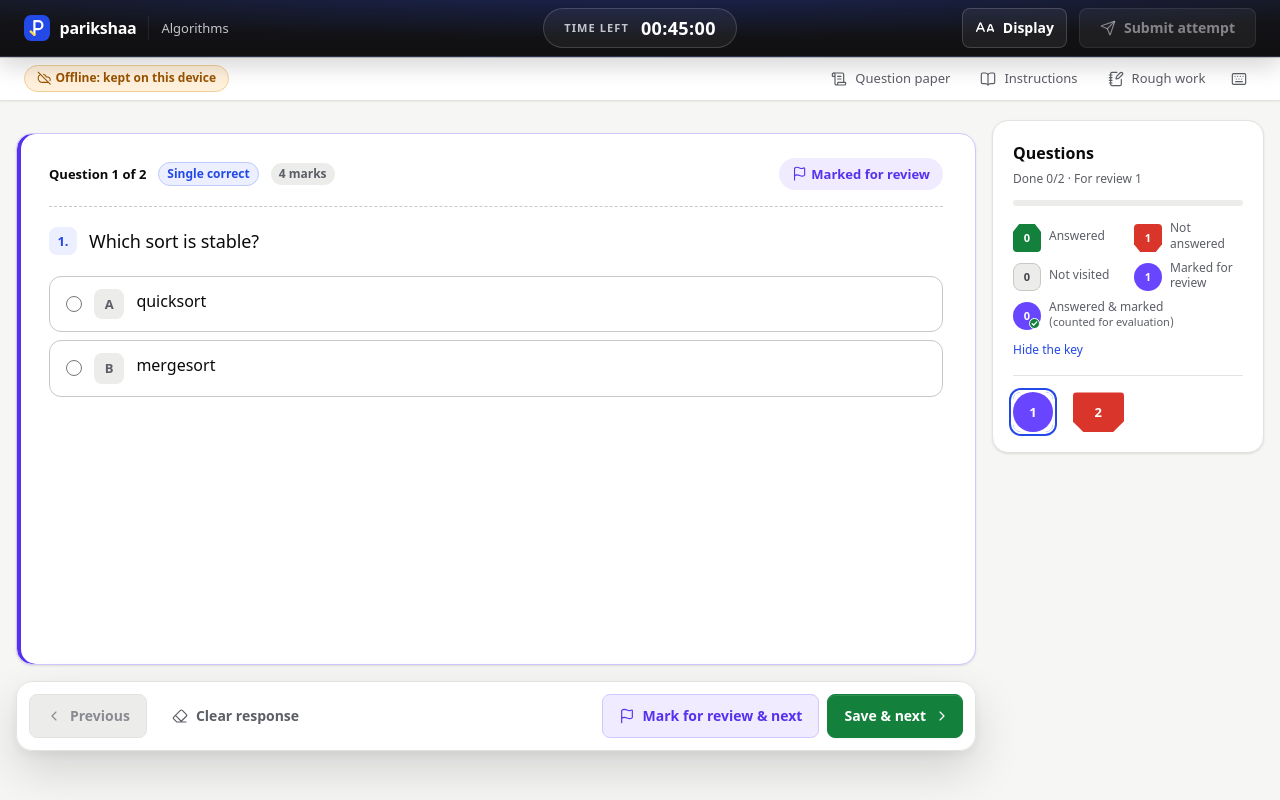
Test: App › shows a probe and sends the reply to it
Expected: the heading "Algorithms" is shown, [161,20,229,36]
Click the radio button labelled "mergesort".
click(74, 368)  # box [66,360,82,376]
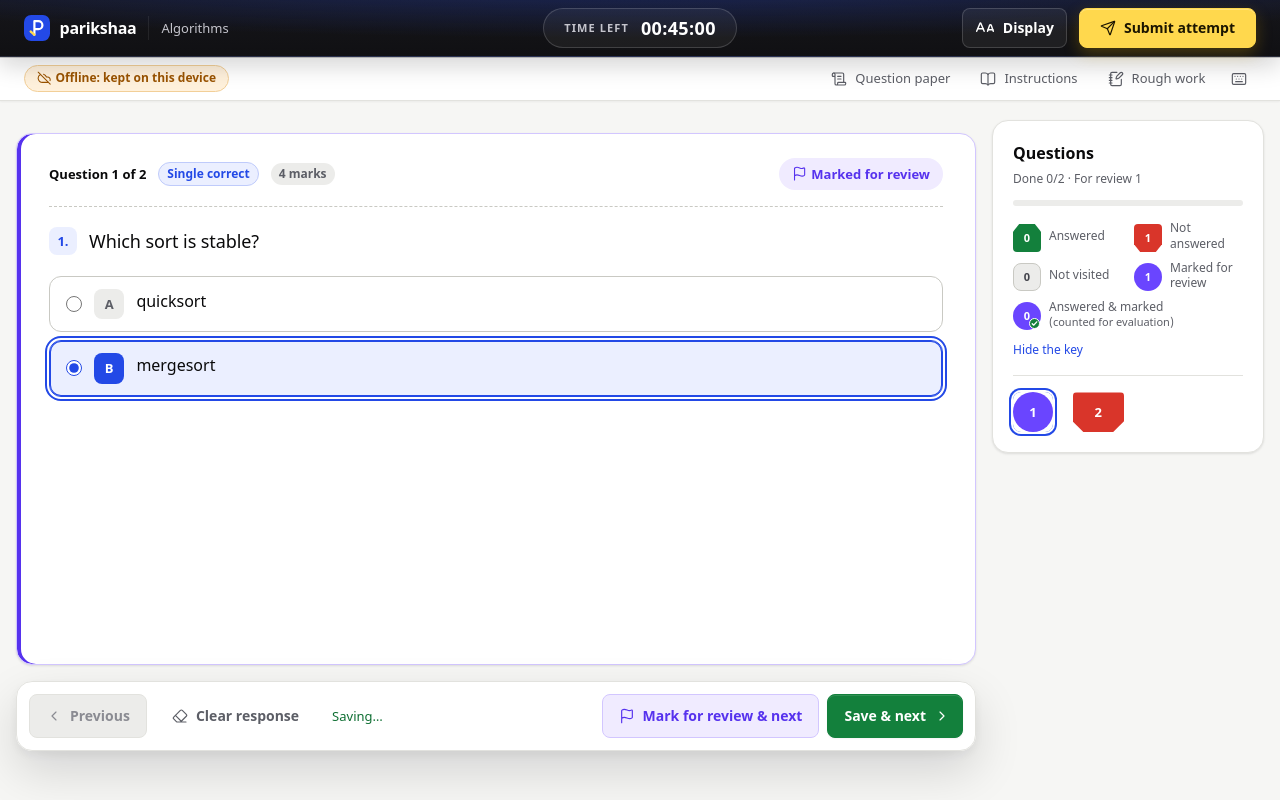
Click the button "Save & next".
click(895, 716)  # box [827,694,963,738]
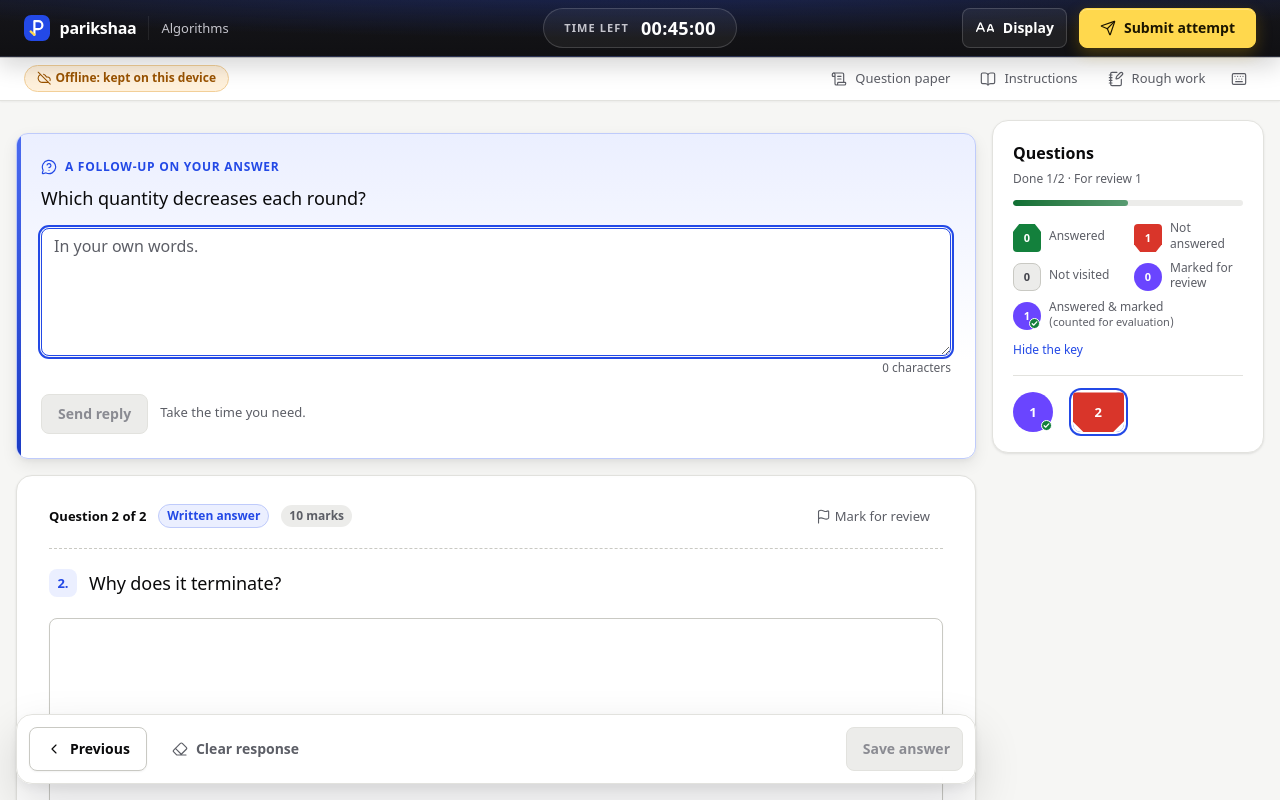
Expected: the element named "Follow-up question" shows "Which quantity decreases each round?", [41,186,366,210]
Type "The potential." into the text box named "Your reply to the follow-up".
click(496, 292); type("The potential.")  # box [41,228,951,356]
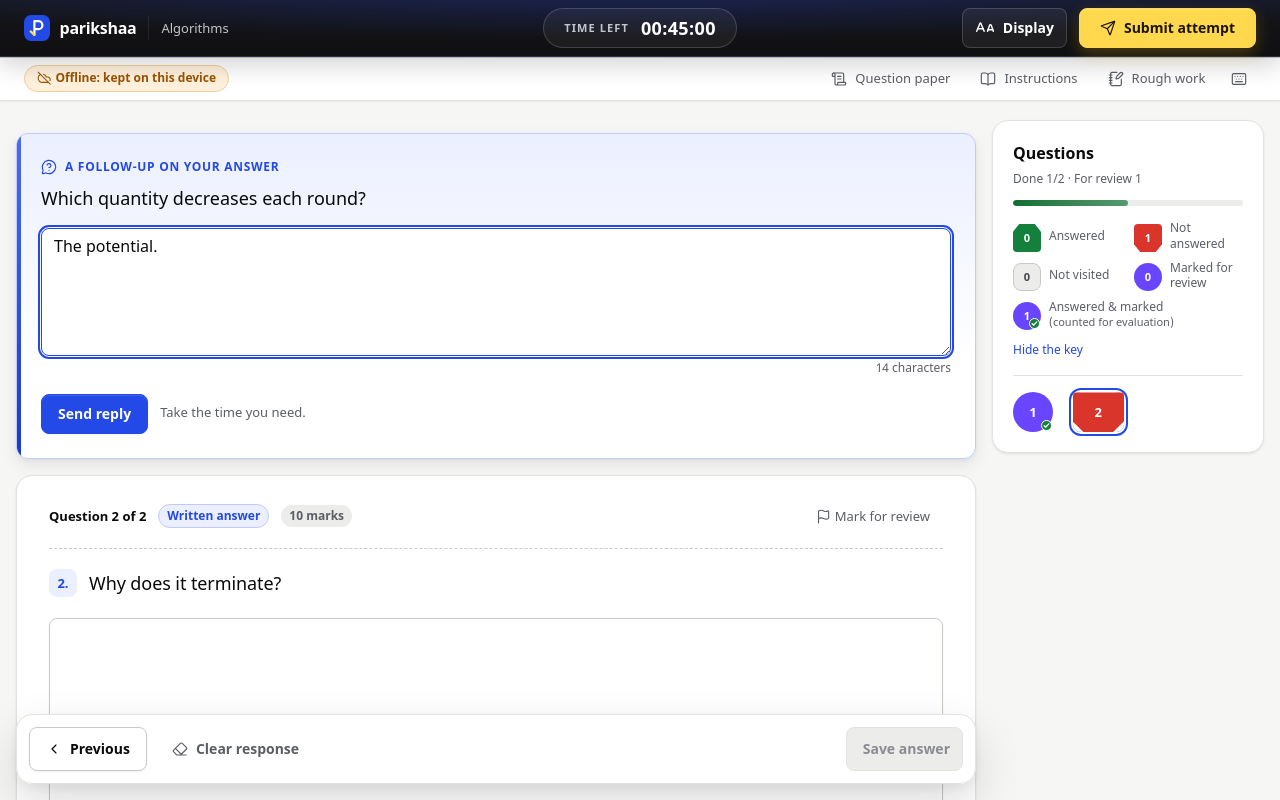
Click the button "Send reply".
click(95, 414)  # box [41,394,148,434]
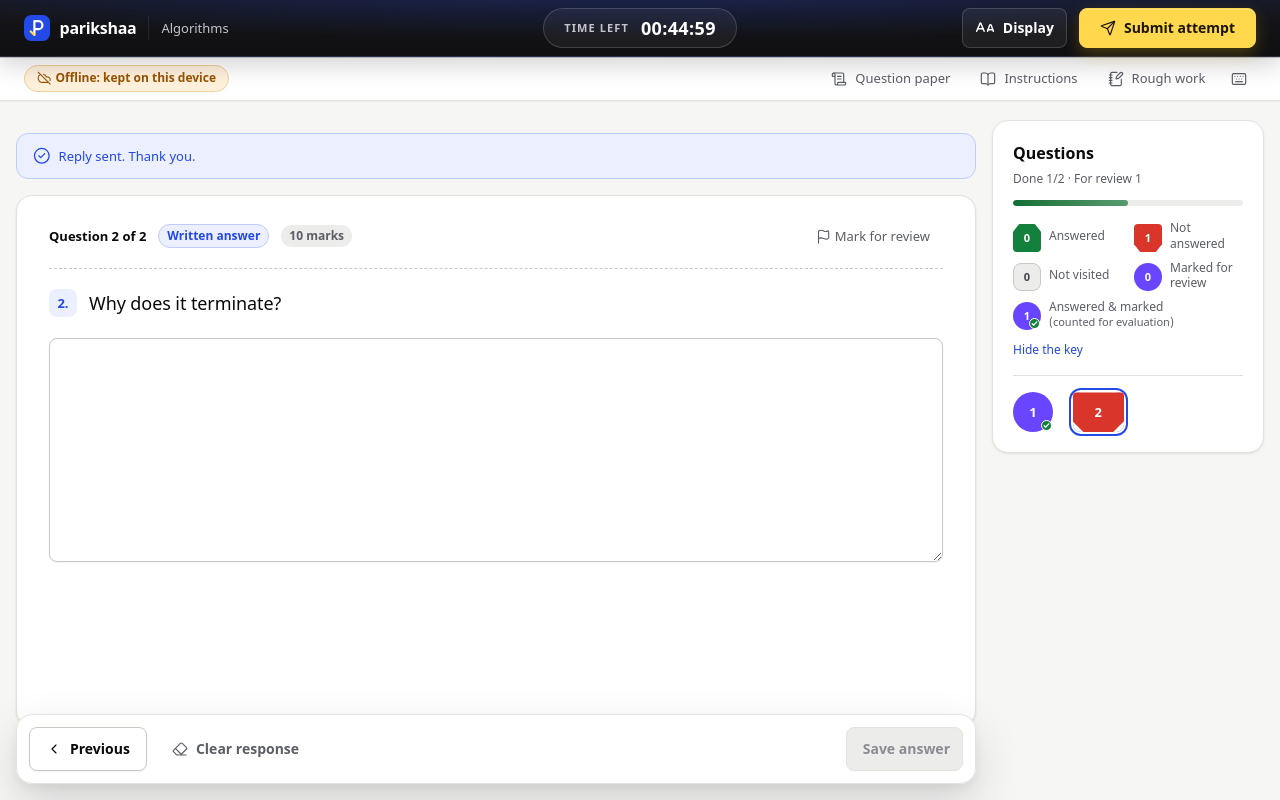
Expected: the text "Reply sent. Thank you." is shown, [16,133,976,179]
